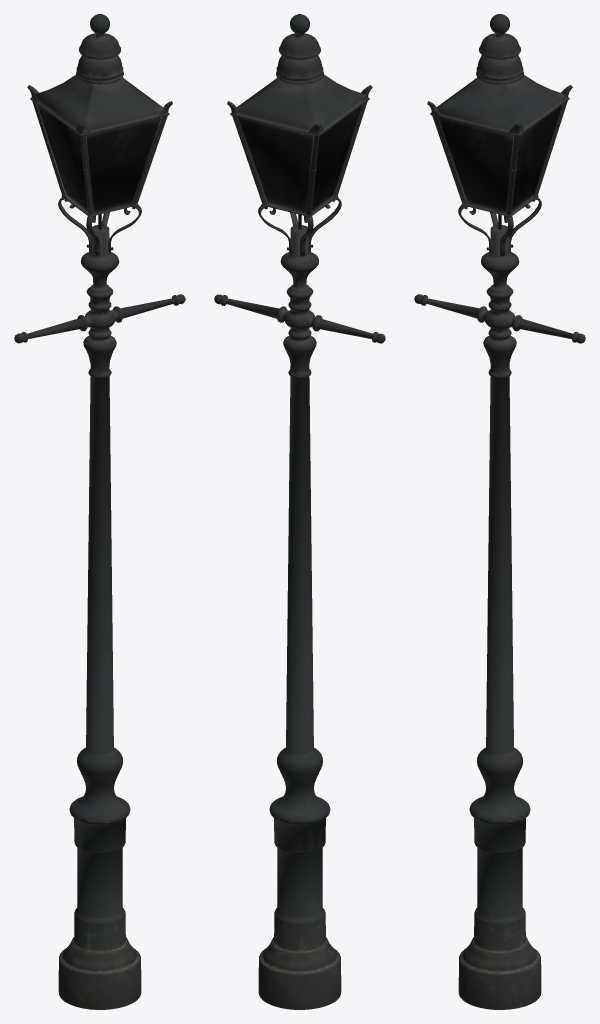
File: street_lamp_post.glb
The picture shows the model from 3 angles, left to right: view 1: azimuth 30°, elevation 25°; view 2: azimuth 150°, elevation 25°; view 3: azimuth 330°, elevation 25°; orthographic projection.
Visible parts, largest first — view 1: street_lamp_01; view 2: street_lamp_01; view 3: street_lamp_01.
Boxes of the visible parts, x1,y1,x2,y2 form: street_lamp_01: (14,14,185,1009); street_lamp_01: (214,14,385,1009); street_lamp_01: (414,14,585,1009).
Size of the model in its own units: 0.7035 by 3.87 by 0.3865.
2 materials, 2 textured.
